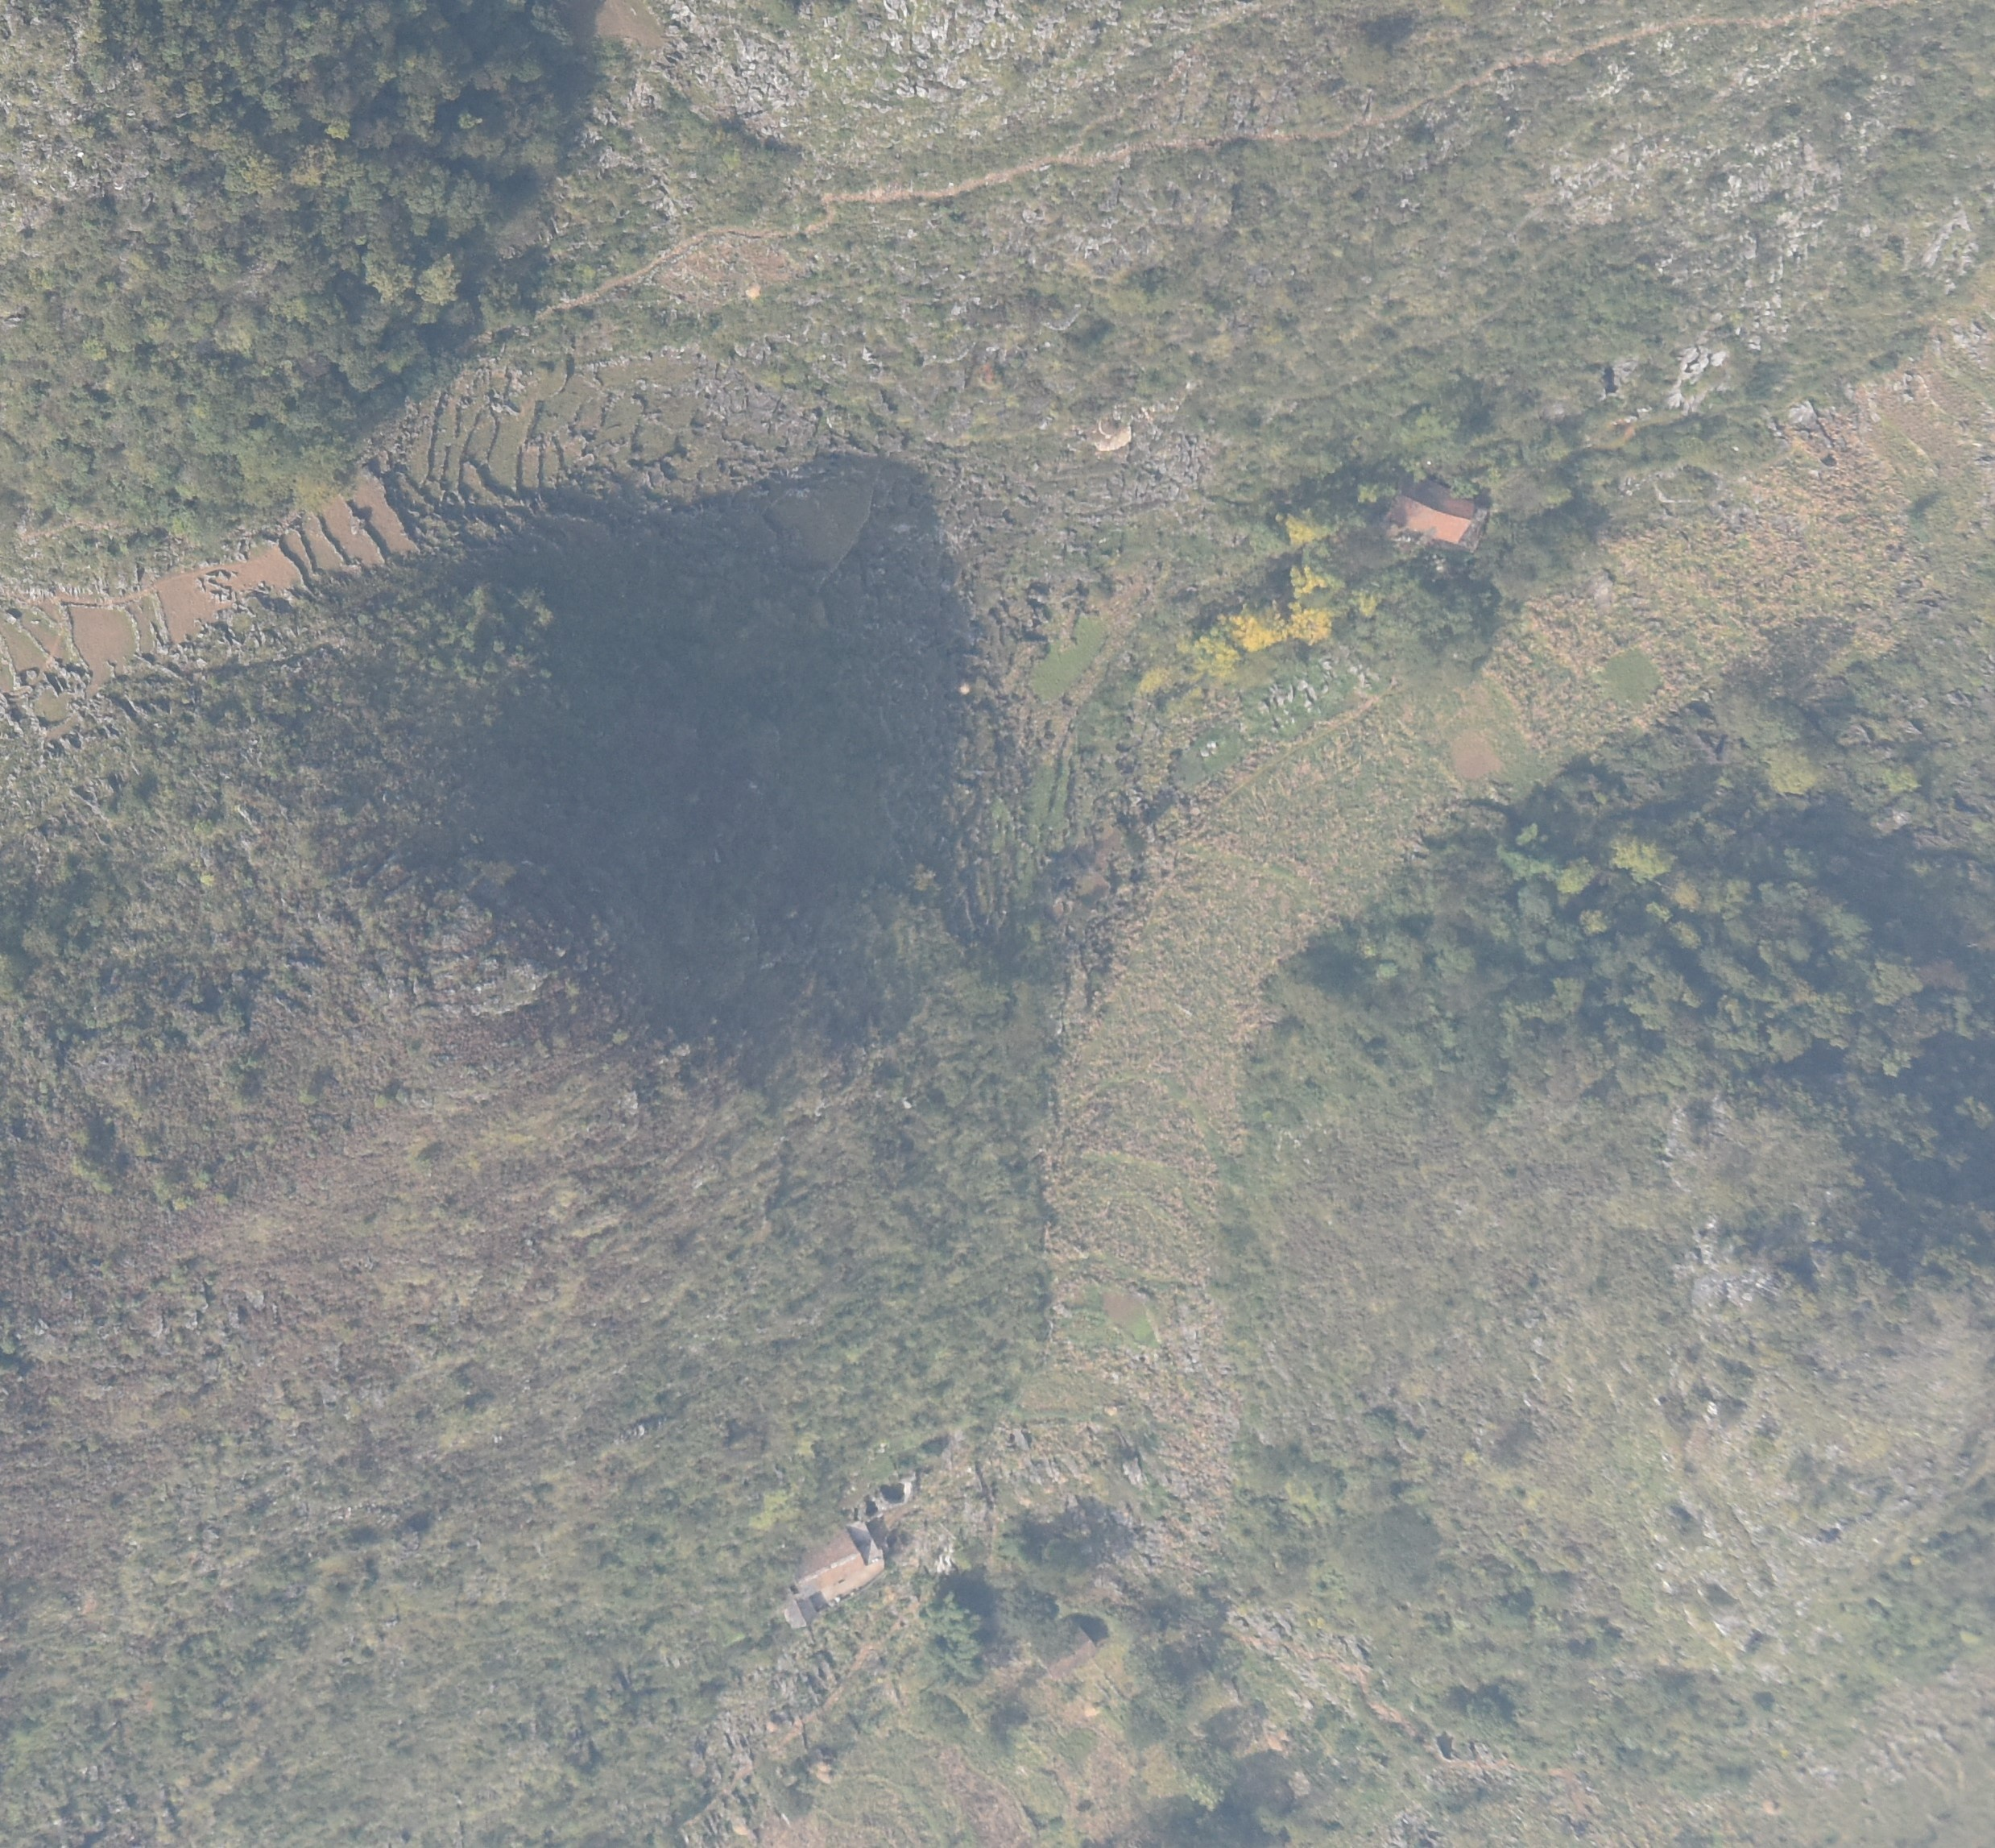building: (788, 1520, 884, 1596), (1391, 475, 1484, 551)
